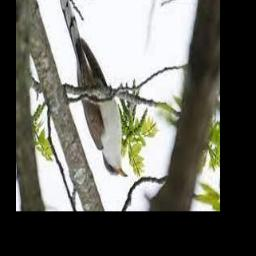Cuckoo: (61, 0, 129, 178)
